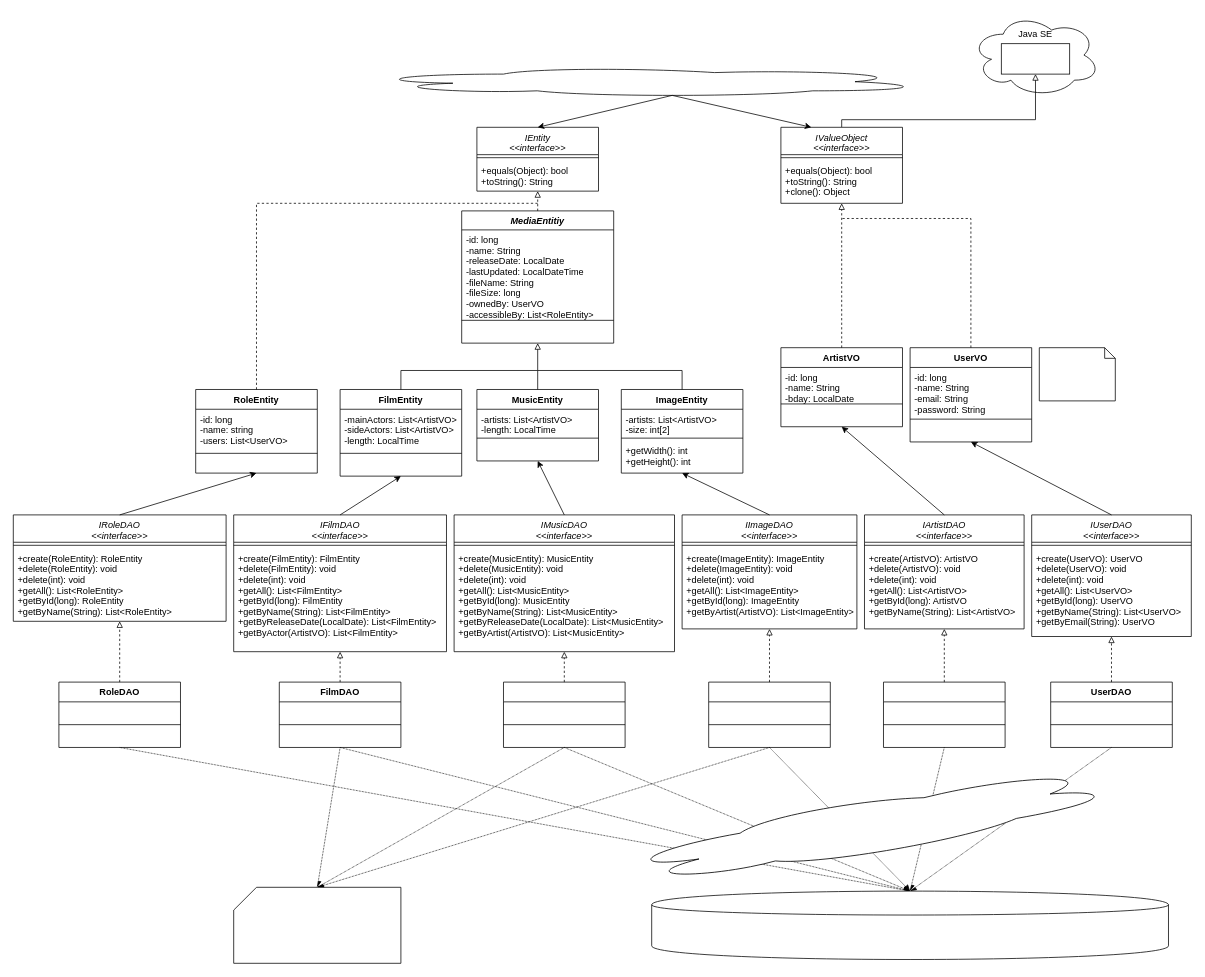
This 1205x977 diagram has some shape labels left out. The shapes that lost their labels are listed below. From the top down, each one's centre as x and y in pixels, then its label:
At [1035,58]: "Cloneable <<interface>>".
At [643,81]: "HomeStream (other clases)".
At [1077,374]: "UserVO: Store password as hash (obviously)".
At [564,714]: "MusicDAO".
At [769,714]: "ImageDAO".
At [944,714]: "ArtistDAO".
At [865,826]: "JDBC".
At [317,925]: "File".
At [909,925]: "DB".
